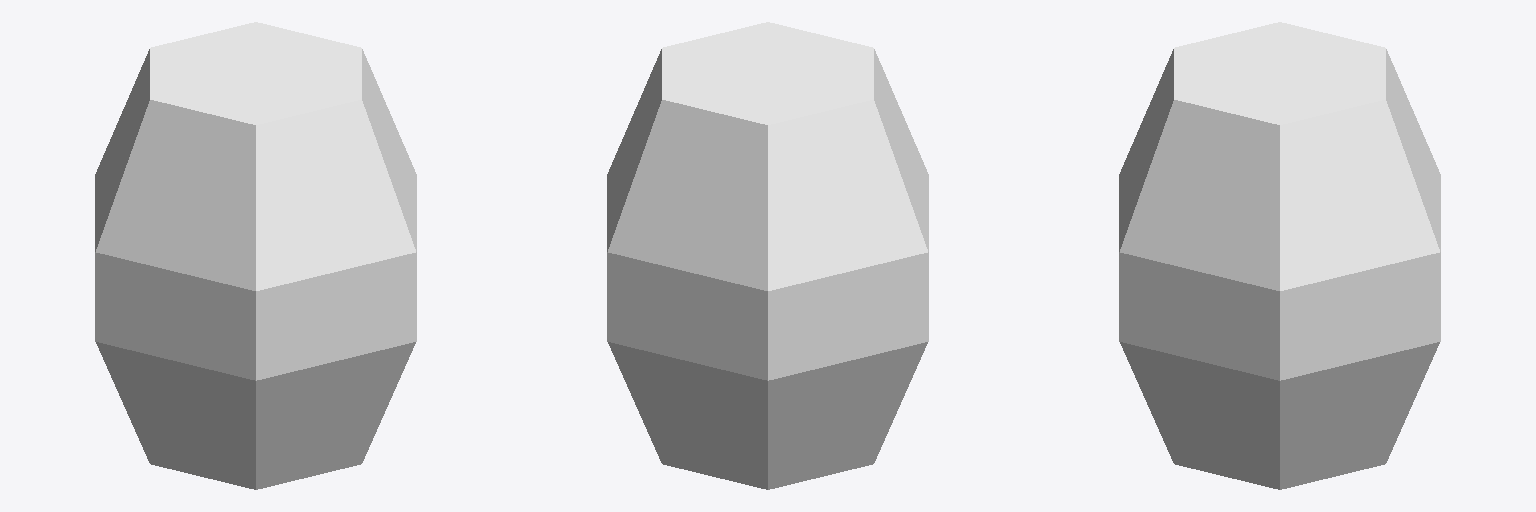
The model's file is barrel.obj.
The picture shows the model from 3 angles: view 1: azimuth 30°, elevation 25°; view 2: azimuth 150°, elevation 25°; view 3: azimuth 270°, elevation 25°; orthographic projection.
Visible parts, largest first — view 1: BARREL_Mesh; view 2: BARREL_Mesh; view 3: BARREL_Mesh.
Boxes of the visible parts, <box> form: BARREL_Mesh: <box>95,22,416,489</box>; BARREL_Mesh: <box>607,22,928,489</box>; BARREL_Mesh: <box>1119,22,1440,489</box>.
Bounding box in the file's own units: 0.8114 × 0.8809 × 0.7027.